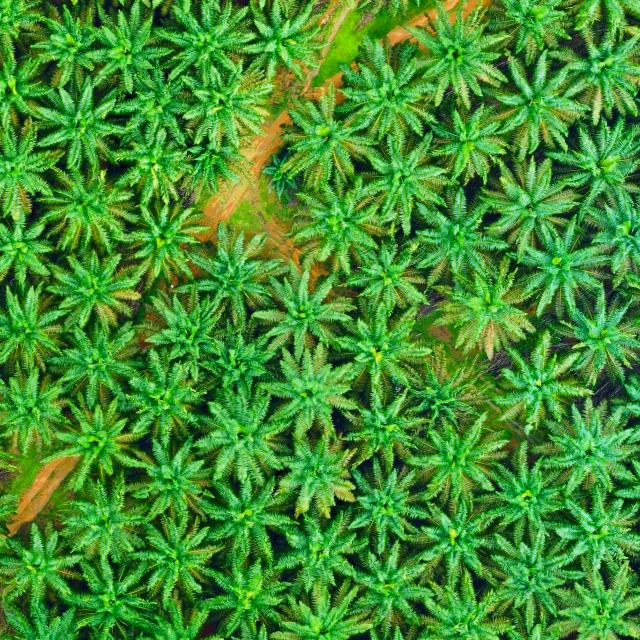Tree: (185, 376, 294, 499), (281, 168, 399, 276), (401, 0, 514, 108), (105, 343, 211, 453), (505, 213, 615, 318), (475, 156, 581, 264), (482, 527, 591, 631), (336, 31, 440, 140), (529, 394, 640, 496), (491, 48, 592, 160), (29, 74, 136, 177), (429, 257, 536, 360), (468, 439, 577, 540), (491, 328, 594, 434), (400, 414, 512, 510), (544, 14, 640, 126), (279, 82, 379, 188), (255, 340, 358, 442), (250, 264, 355, 364), (188, 224, 286, 330), (54, 391, 156, 492), (34, 160, 140, 257), (201, 469, 296, 574), (397, 338, 505, 429), (275, 504, 369, 608), (360, 130, 453, 234), (545, 112, 640, 212), (332, 300, 433, 394), (153, 0, 254, 92), (550, 290, 640, 392), (109, 124, 212, 213), (400, 567, 525, 640), (122, 192, 213, 292), (413, 186, 508, 280), (178, 58, 273, 152), (82, 0, 175, 96), (57, 467, 148, 563), (63, 554, 164, 640), (352, 536, 435, 640), (45, 247, 144, 334), (337, 382, 430, 472), (143, 289, 229, 384), (547, 553, 640, 640), (427, 96, 512, 191), (552, 481, 640, 572), (348, 456, 430, 553), (140, 512, 228, 602), (200, 556, 294, 638), (0, 358, 77, 456), (129, 435, 215, 522), (57, 318, 147, 401), (420, 495, 499, 588), (0, 518, 85, 604), (274, 432, 358, 519), (338, 239, 430, 317), (243, 0, 330, 82), (0, 114, 67, 220), (31, 0, 109, 89), (270, 578, 378, 640), (0, 279, 70, 373), (0, 199, 63, 296), (0, 38, 54, 119)
